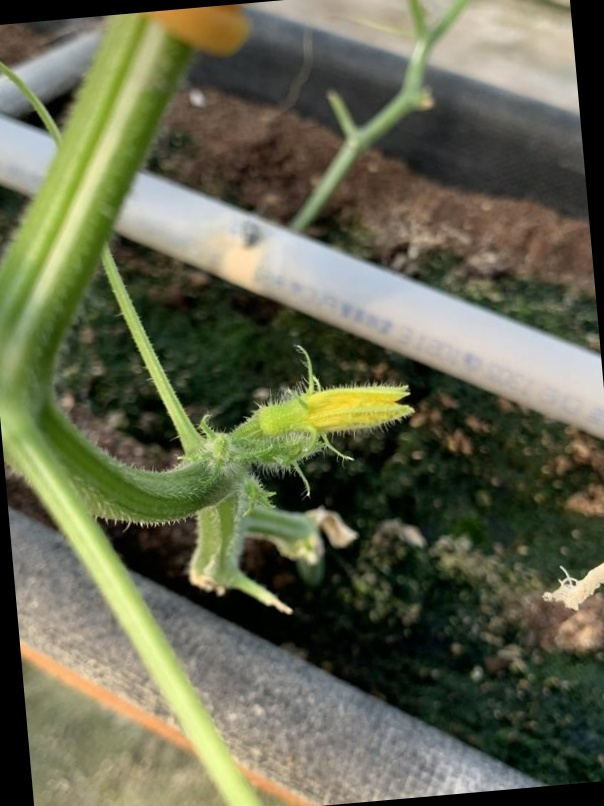bud: (229, 378, 415, 463)
